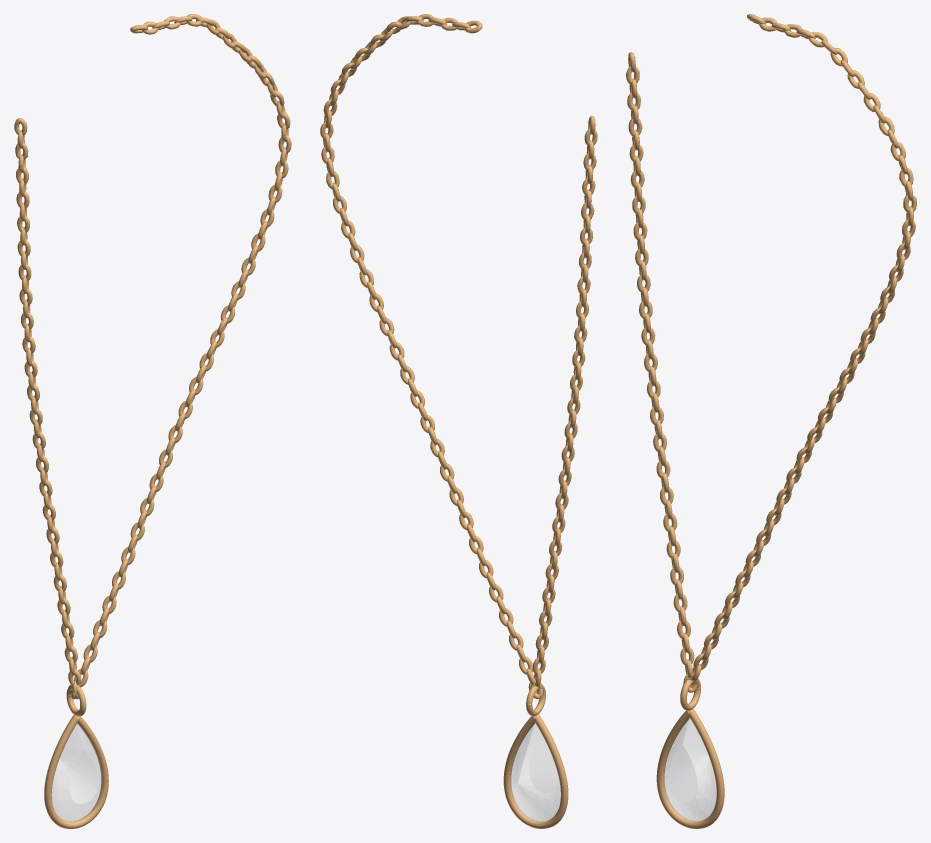
File: necklace-drop.glb
3 renders of one model, left to right at view 1: azimuth 30°, elevation 25°; view 2: azimuth 150°, elevation 25°; view 3: azimuth 330°, elevation 25°, orthographic. The views are drawn at different scales.
Visible parts, largest first — view 1: metal_chain, diamond, metal_frame; view 2: metal_chain, diamond, metal_frame; view 3: metal_chain, diamond, metal_frame.
Boxes of the visible parts, <box> form: metal_chain: <box>14,14,291,699</box>; diamond: <box>52,723,102,821</box>; metal_frame: <box>44,714,108,828</box>; metal_chain: <box>320,14,597,698</box>; diamond: <box>509,723,560,821</box>; metal_frame: <box>503,714,568,828</box>; metal_chain: <box>626,14,916,692</box>; diamond: <box>663,718,716,821</box>; metal_frame: <box>656,709,724,828</box>.
Bounding box in the file's own units: 31.47 × 86.64 × 5.26.
